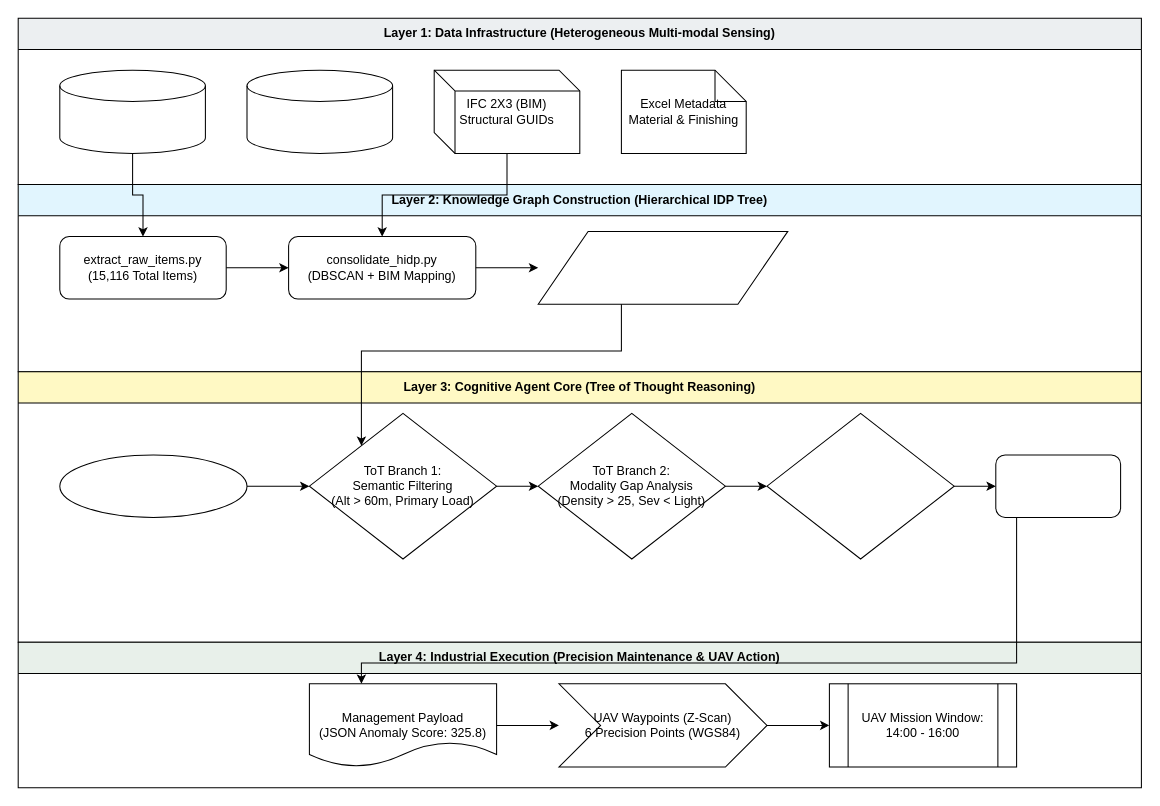
This 1160x806 diagram has some shape labels left out. Each missing label, with the centre of its shape:
Cognitive Consensus: Lock Goodman Floor_18: the point at 1058,485
HIDP-v6 Tree Structure Building -> Storey -> Element -> HIDP -> Raw Items: the point at 662,267
IR KML Thermal Radiation Data: the point at 319,111
RGB KML (11 Sites) 8,797 Items (Goodman): the point at 132,111
ToT Branch 3: Physics-Informed Risk (95.3% Gap -> Delamination): the point at 860,485
User Query: 'Deceptive Safety Blind Spots?': the point at 153,485
